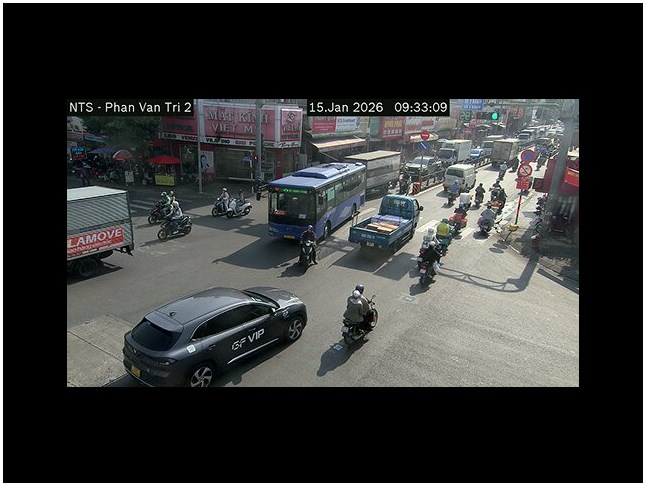bus: (262, 160, 368, 242), (67, 185, 135, 273)
car: (122, 284, 309, 385), (348, 194, 423, 250)
motorbike: (210, 190, 251, 219)
truck: (67, 184, 135, 276)
